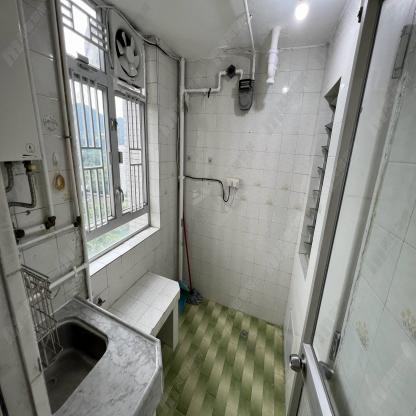Exhaust Fan: (109, 10, 146, 90)
Sink: (41, 323, 104, 415)
